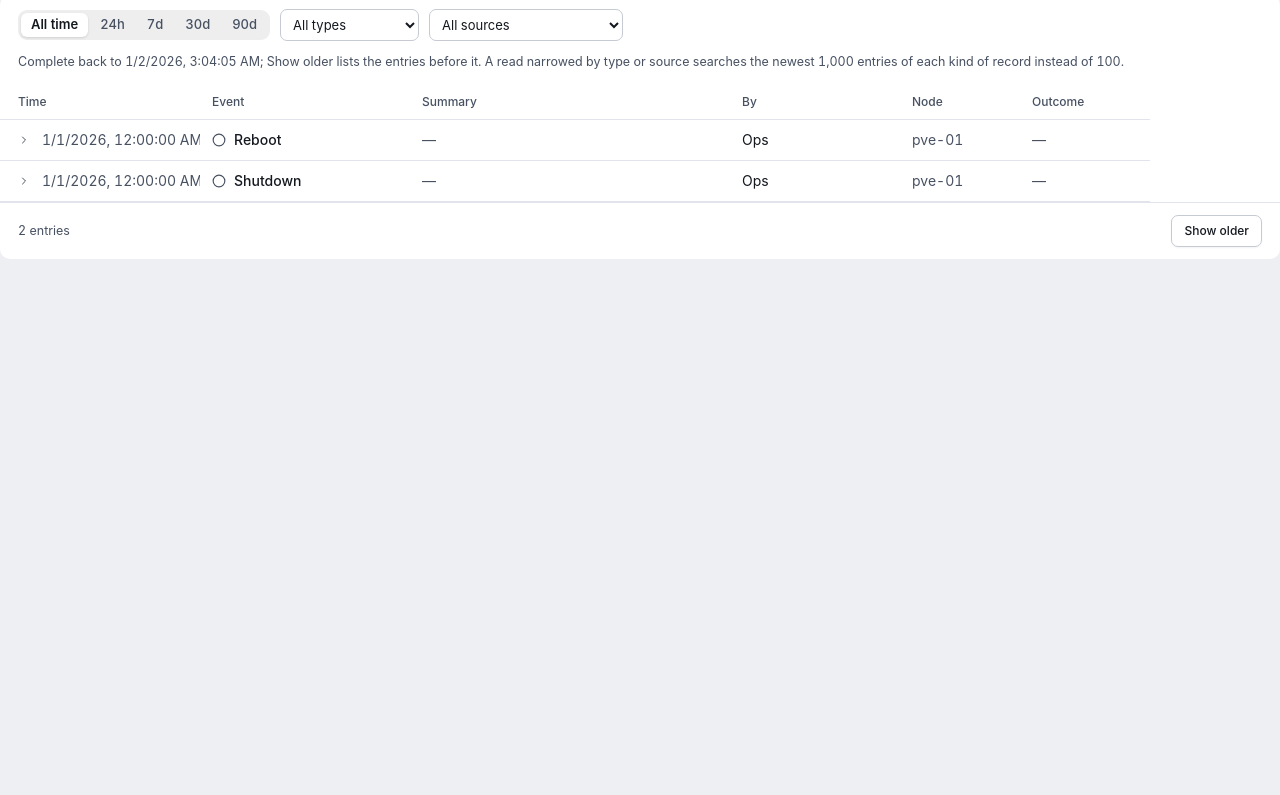
HistoryTimeline › shows older entries below where a read was whole, each once
Click the button "Show older" at [1217, 231], box [1171,215,1262,247]
(page scrolled)
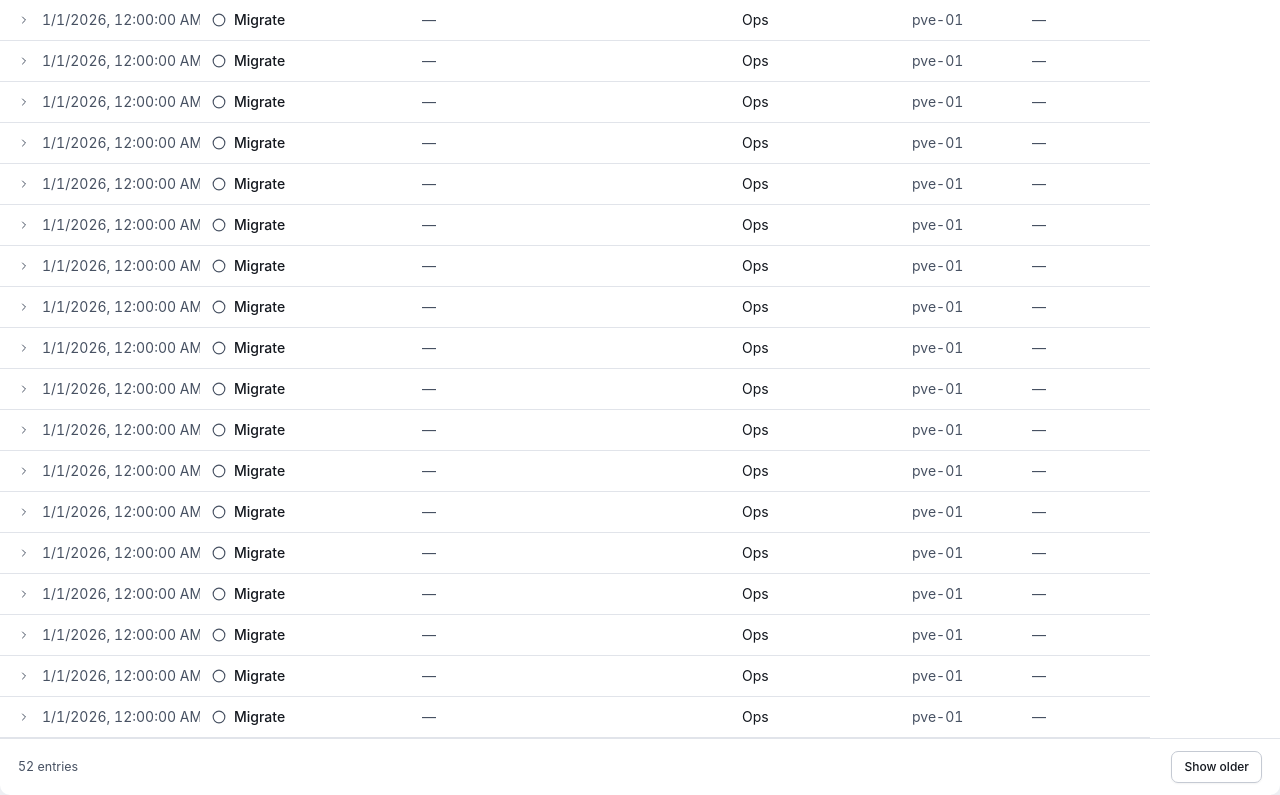
Click the button "Show older" at [1217, 767], box [1171,751,1262,783]
(page scrolled)
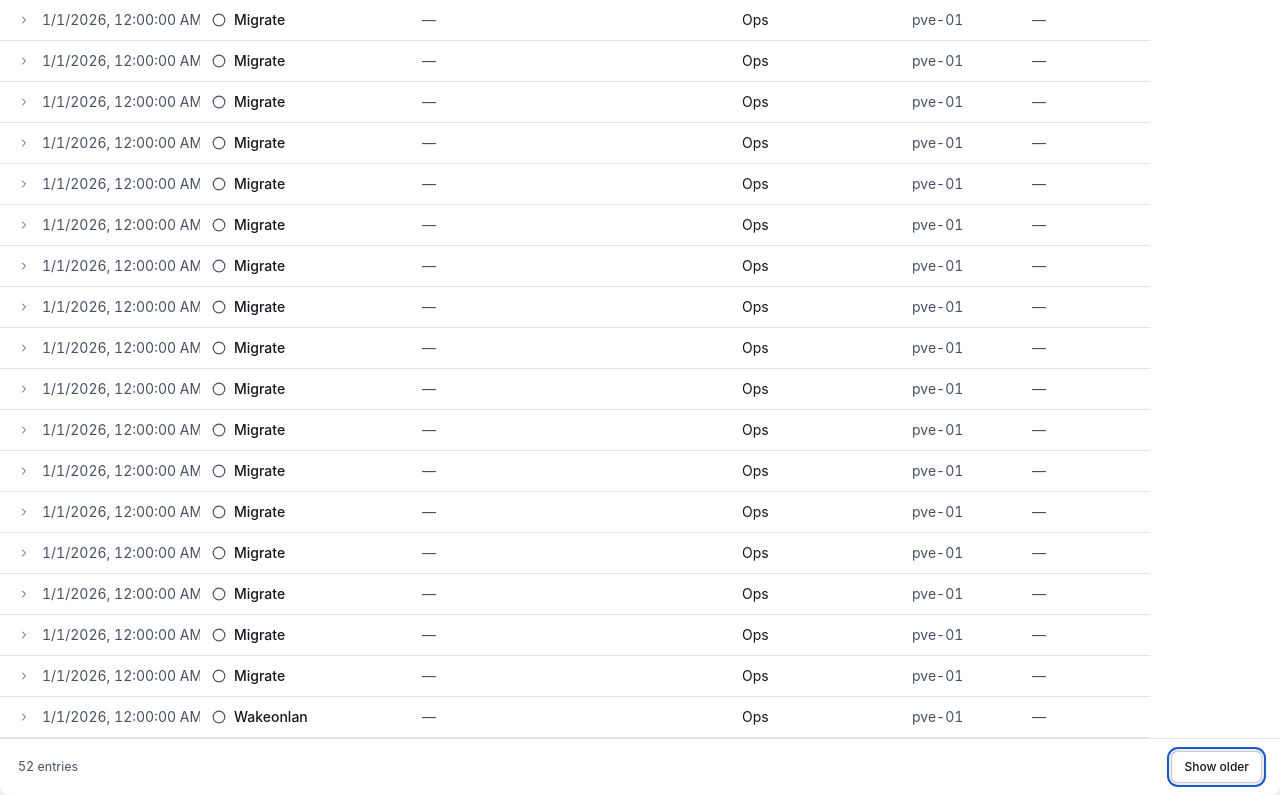
Now the text "Wakeonlan" is shown, box [234,707,308,727]
Click the button "Show older" at [1217, 767], box [1171,751,1262,783]
(page scrolled)
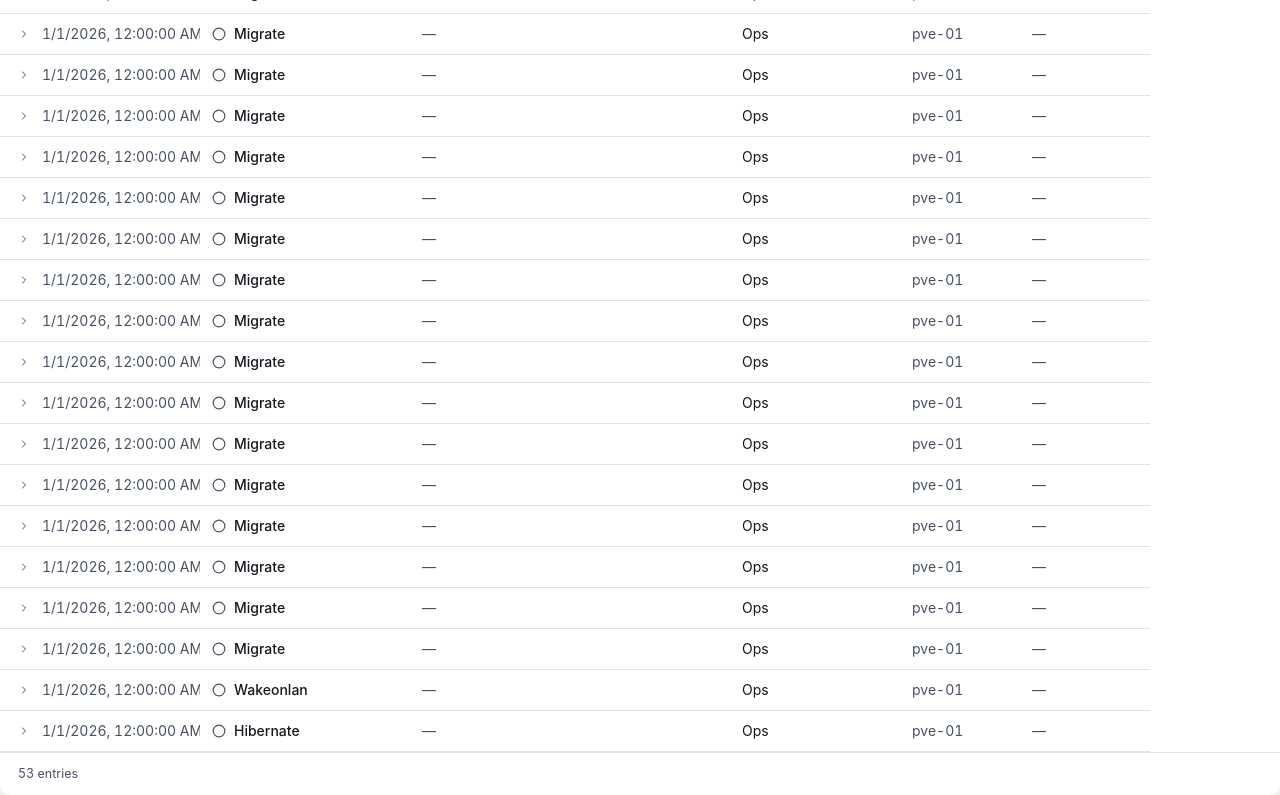
Now the text "Hibernate" is shown, box [234,720,300,740]
Now the text "53 entries" is shown, box [18,764,78,783]
Now the button "Show older" is gone
